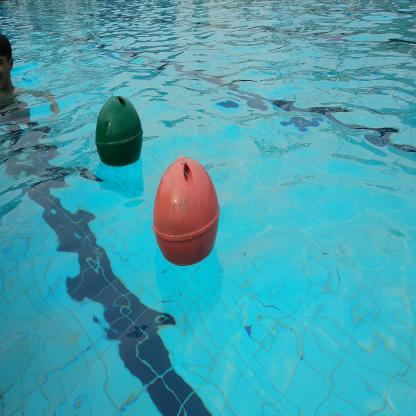green_buoy: (93, 90, 146, 174)
red_buoy: (150, 149, 226, 277)
